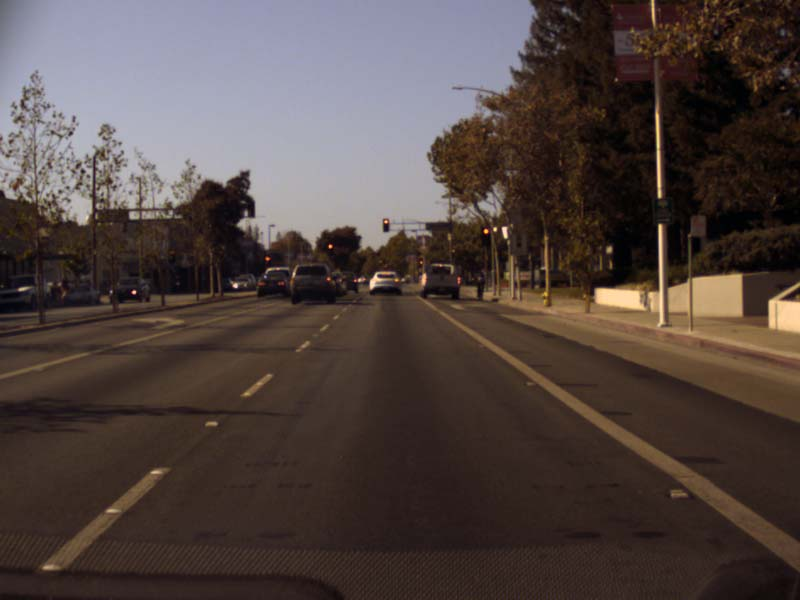Red: (481, 226, 490, 248), (168, 248, 176, 263), (326, 242, 334, 255), (381, 218, 388, 232), (418, 258, 422, 266)
Yellow: (264, 253, 270, 265)
